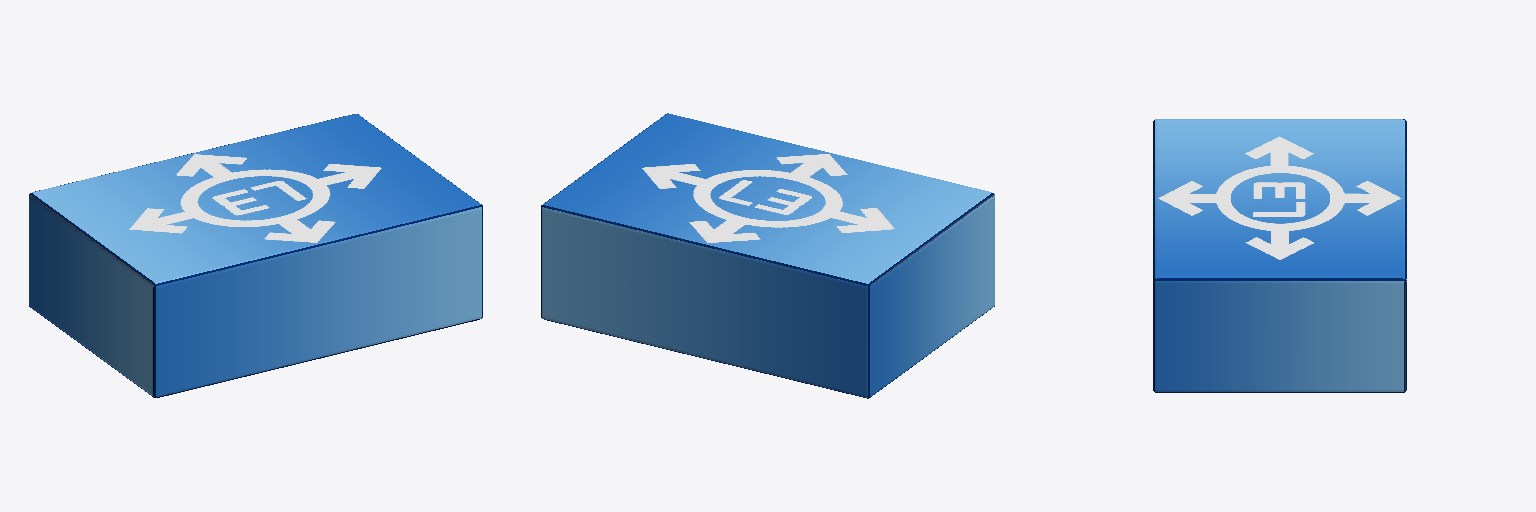
3 views of the same model, side by side, from view 1: azimuth 30°, elevation 25°; view 2: azimuth 150°, elevation 25°; view 3: azimuth 270°, elevation 25° (orthographic).
Visible parts, largest first — view 1: Cube; view 2: Cube; view 3: Cube.
Boxes of the visible parts, x1,y1,x2,y2 form: Cube: [29, 114, 482, 397]; Cube: [541, 113, 994, 398]; Cube: [1153, 119, 1406, 392].
Size of the model in its own units: 1.8 by 0.6015 by 1.2.
Materials: 1 (1 with a texture image).